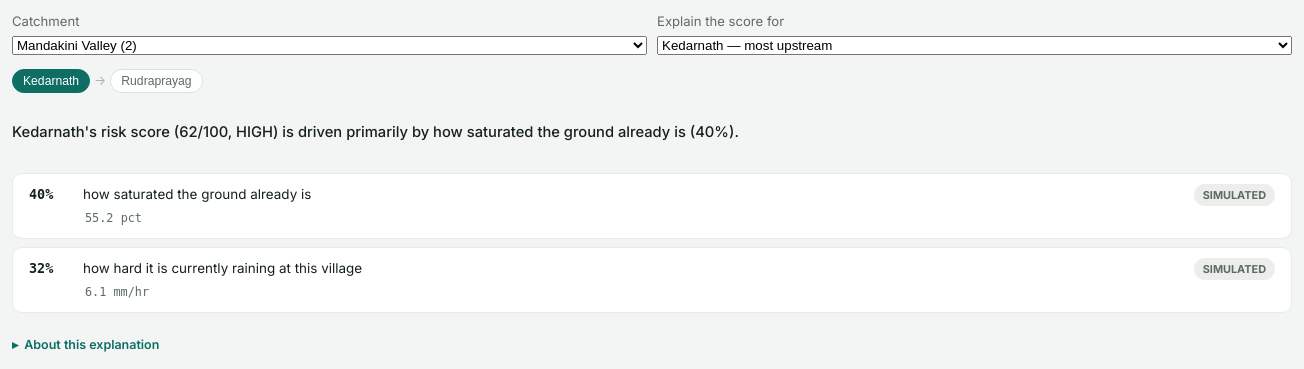
Test: ExplanationPanel › groups villages by catchment, upstream first, and switching catchment explains that valley instead
This screenshot has width=1304, height=369.
Select "Rishiganga-Dhauliganga Valley (1)" in the dropdown labelled "Catchment" at (330, 45), box [12,36,647,55]
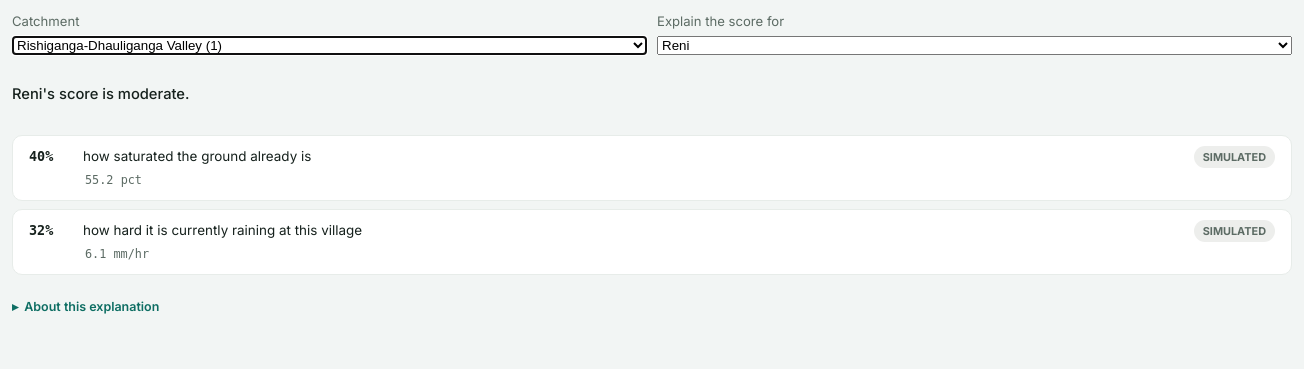
Now the text "Reni's score is moderate." is shown, box [12,85,190,103]
